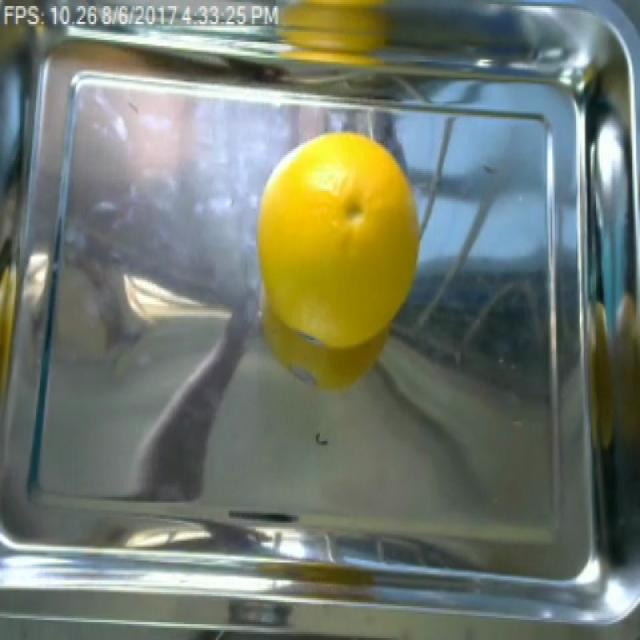Fruit: (252, 121, 428, 392), (261, 0, 411, 78)
